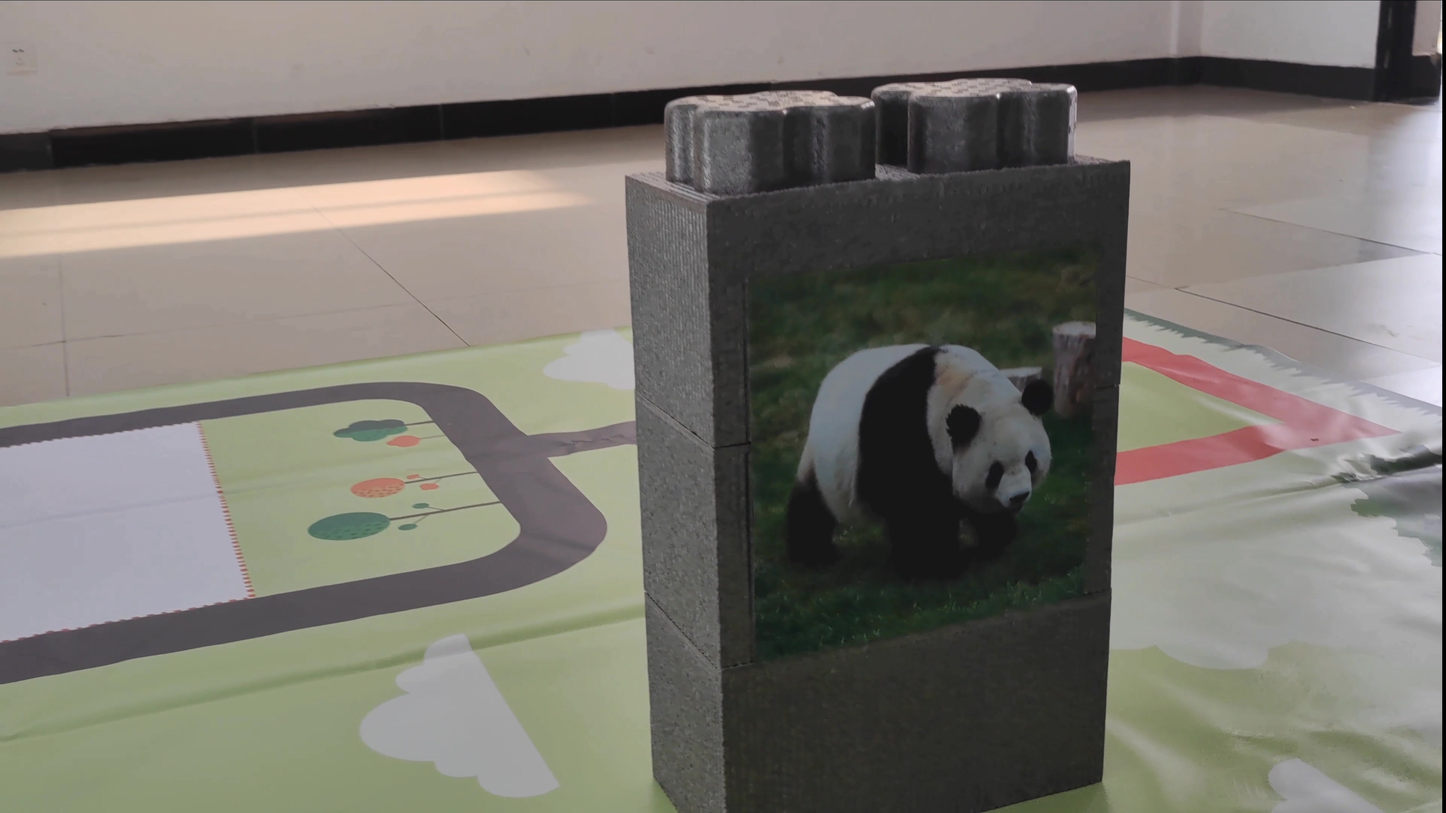panda: (764, 314, 1094, 603)
